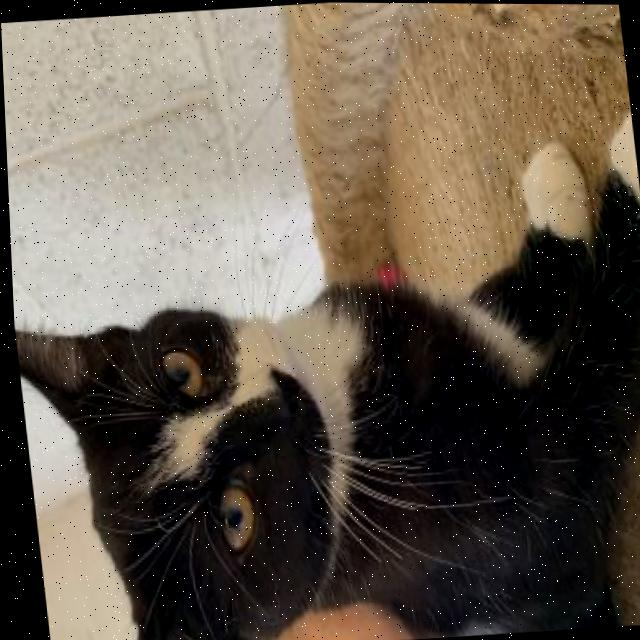Tuxedo: (3, 73, 640, 640)
